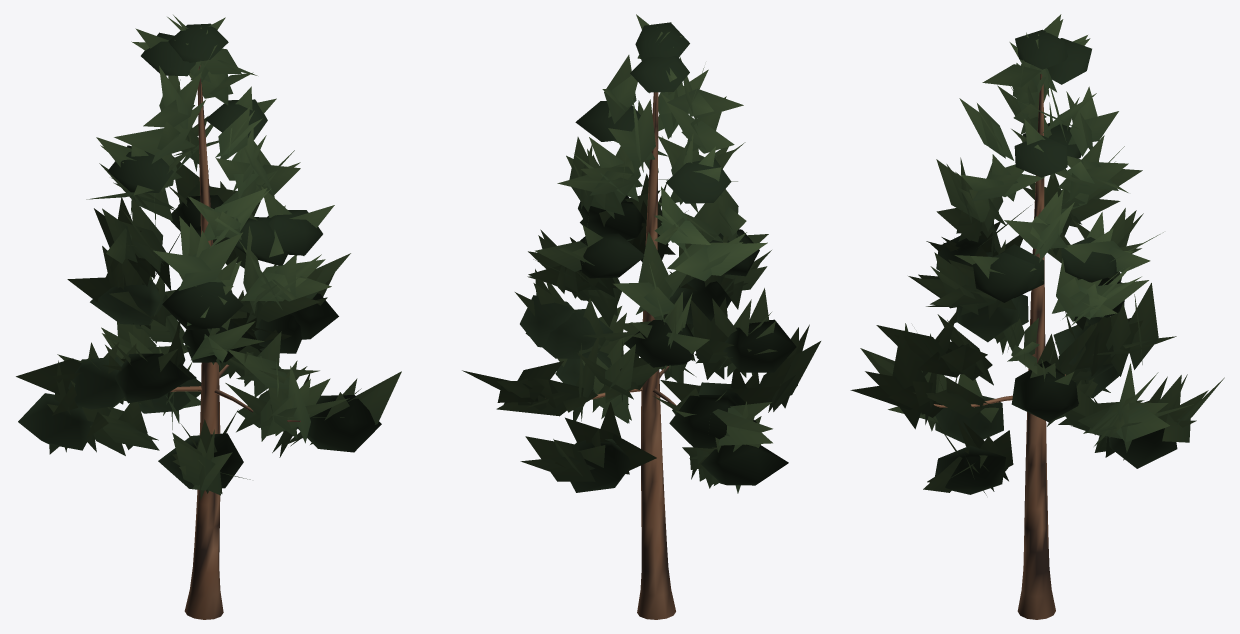
File: tree_ponderosa_mid.glb
3 renders of one model, left to right at view 1: azimuth 30°, elevation 25°; view 2: azimuth 150°, elevation 25°; view 3: azimuth 270°, elevation 25°, orthographic.
Visible parts, largest first — view 1: tree_ponderosa_mid; view 2: tree_ponderosa_mid; view 3: tree_ponderosa_mid.
Boxes of the visible parts, x1,y1,x2,y2 form: tree_ponderosa_mid: [16, 15, 401, 619]; tree_ponderosa_mid: [462, 14, 820, 619]; tree_ponderosa_mid: [850, 14, 1224, 619].
Size of the model in its own units: 10.03 by 17.87 by 10.39.
